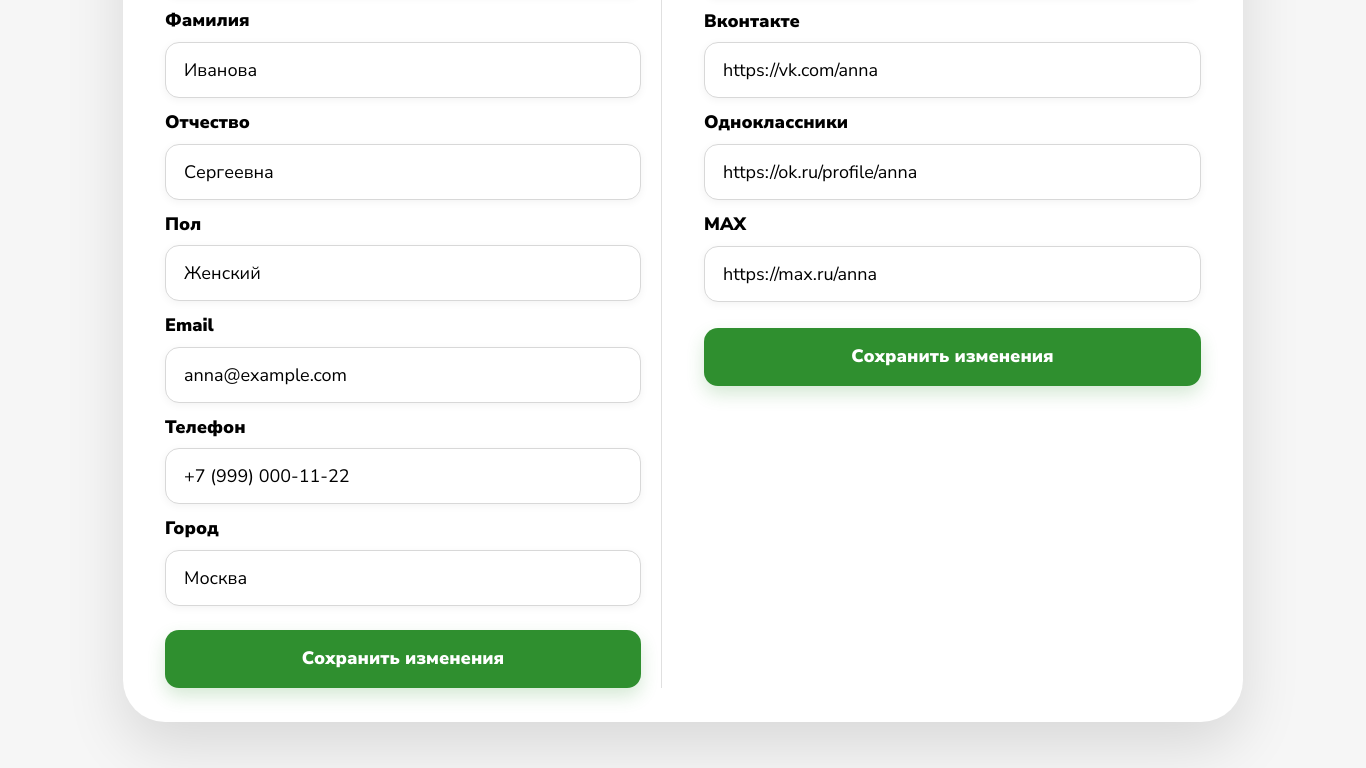
Test case: ProfileSettings › formats phone while typing
This screenshot has width=1366, height=768.
(page scrolled)
Replace the text in the field labelled "Телефон" with "89991234567": (403, 476) x1=165 y1=448 x2=641 y2=504
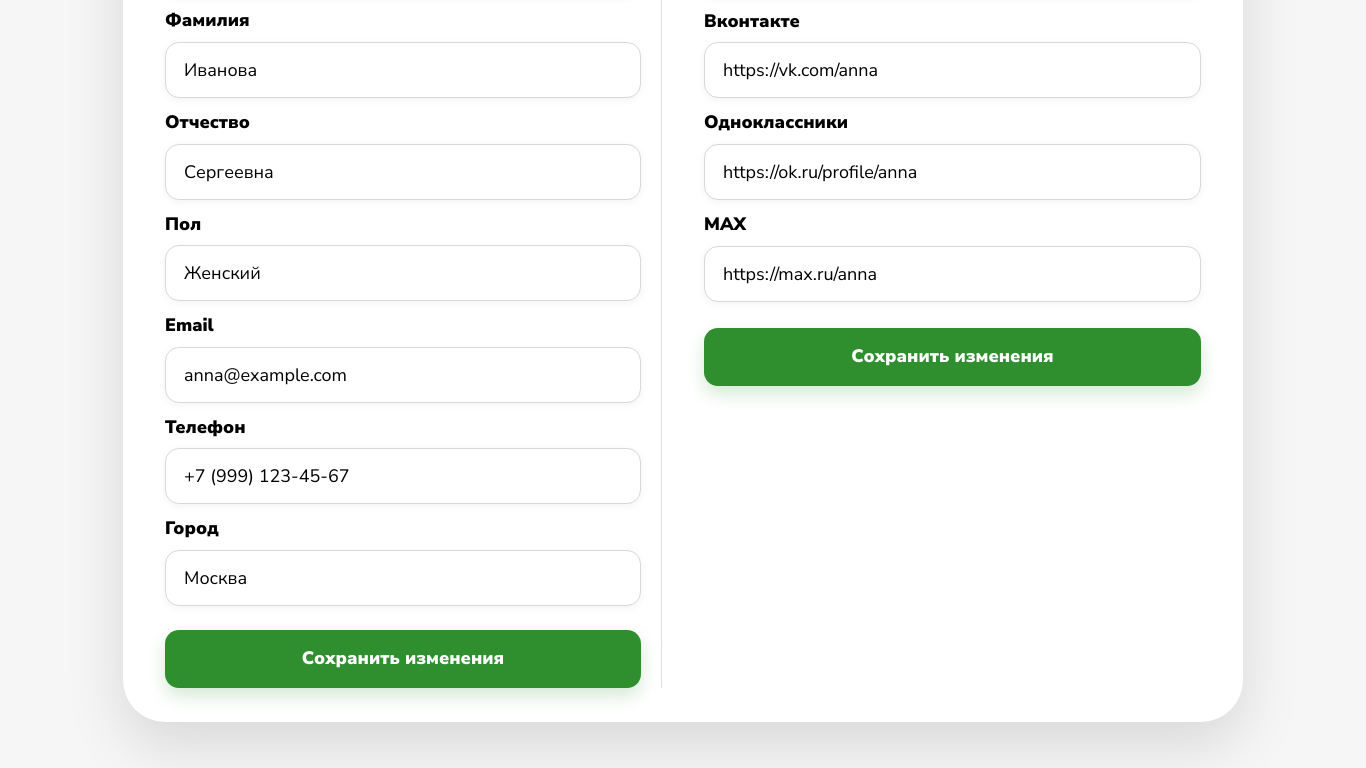
Result: the field labelled "Телефон" holds "+7 (999) 123-45-67" at x1=165 y1=448 x2=641 y2=504
